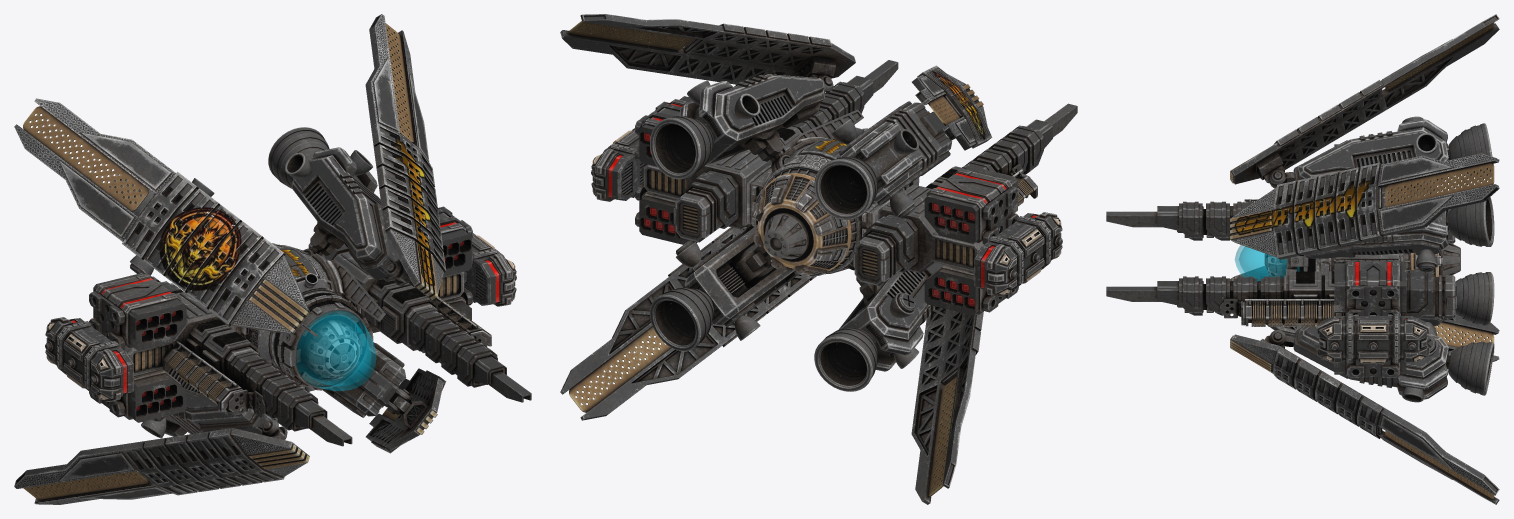
File: vargulf-detail.glb
3 views of the same model, side by side, from view 1: azimuth 30°, elevation 25°; view 2: azimuth 150°, elevation 25°; view 3: azimuth 270°, elevation 25° (orthographic). The views are drawn at different scales.
Parts seen in each view (by area): view 1: vargulf; view 2: vargulf; view 3: vargulf.
Part boxes in pixels (x1,y1,x2,y2): vargulf: (14,14,531,504); vargulf: (560,14,1077,504); vargulf: (1106,14,1499,504).
Size of the model in its own units: 26 by 23.8 by 24.46.
Materials: 8 (7 with a texture image).
